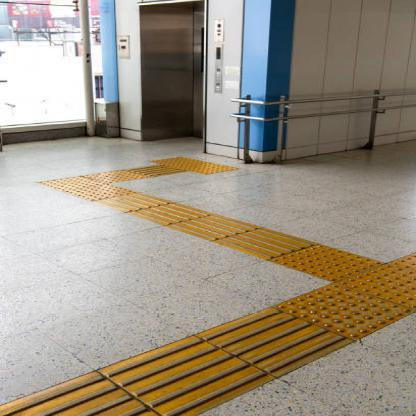podotacti: (1, 154, 416, 416)
